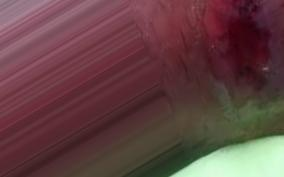Spider: (205, 8, 271, 107)
